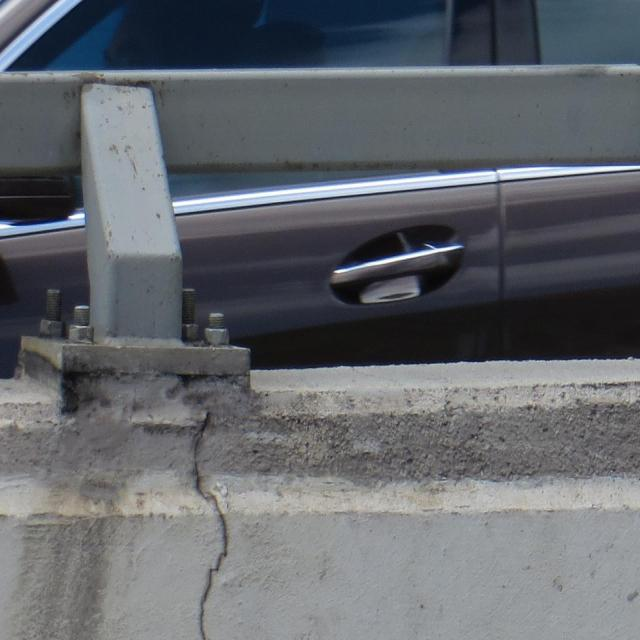vertical crack: (192, 413, 228, 639)
